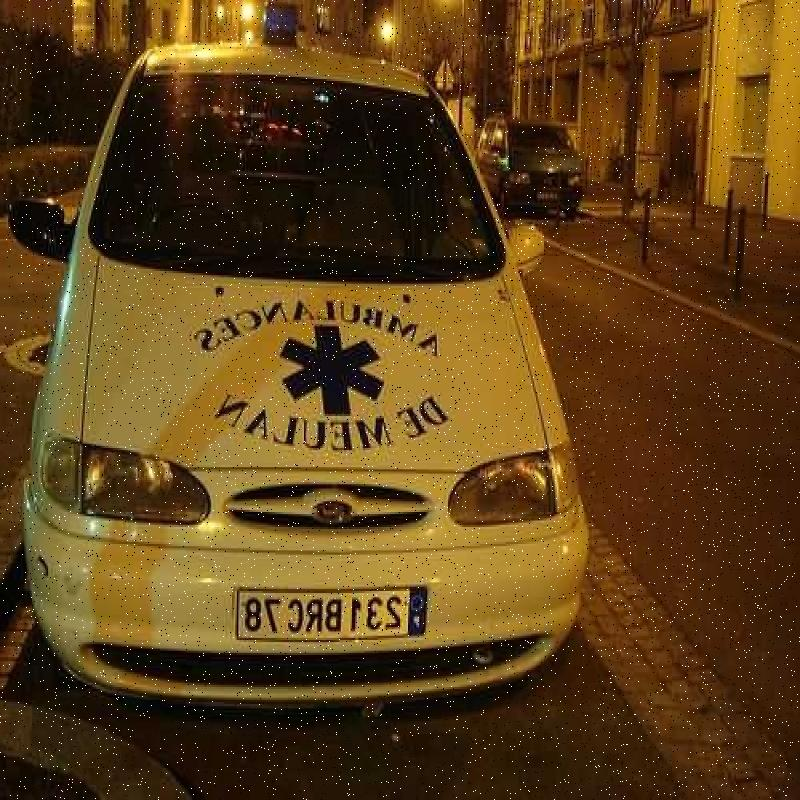AmbulanceSiren: (248, 0, 309, 63)
